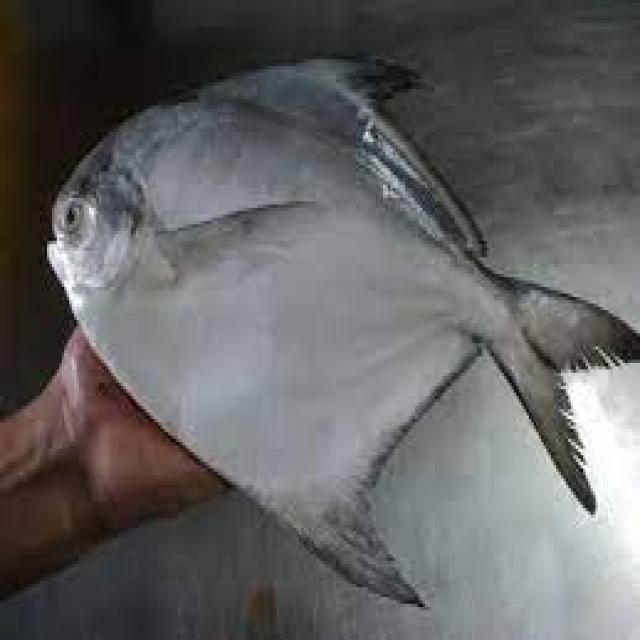pomfred: (45, 55, 638, 607)
